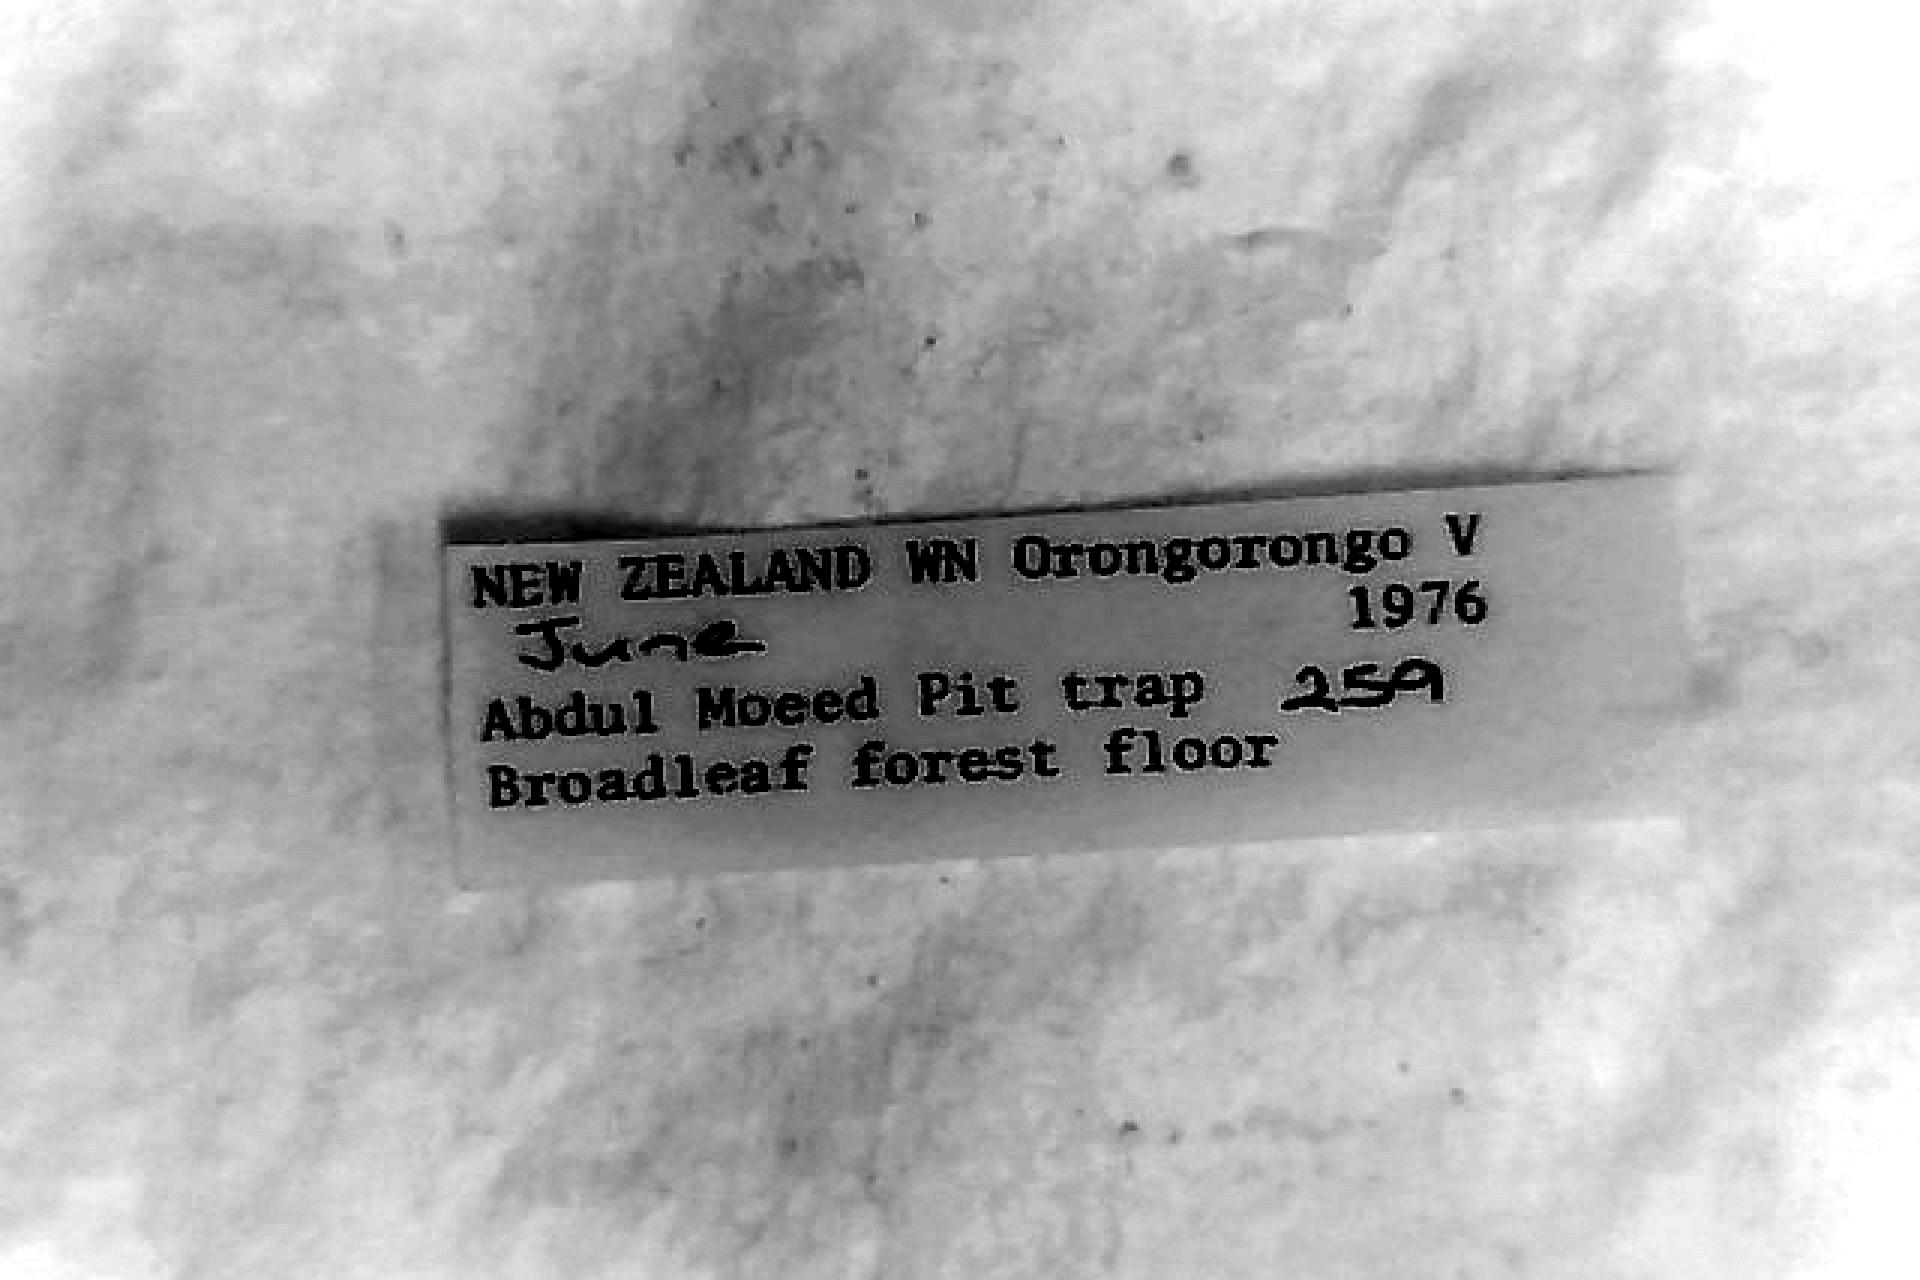mixed_label: (446, 477, 1680, 883)
